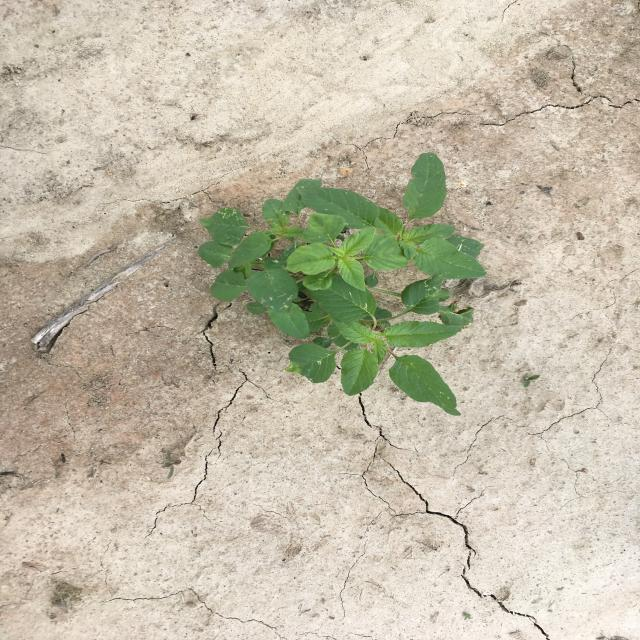PalmerAmaranth: (198, 152, 487, 416)
